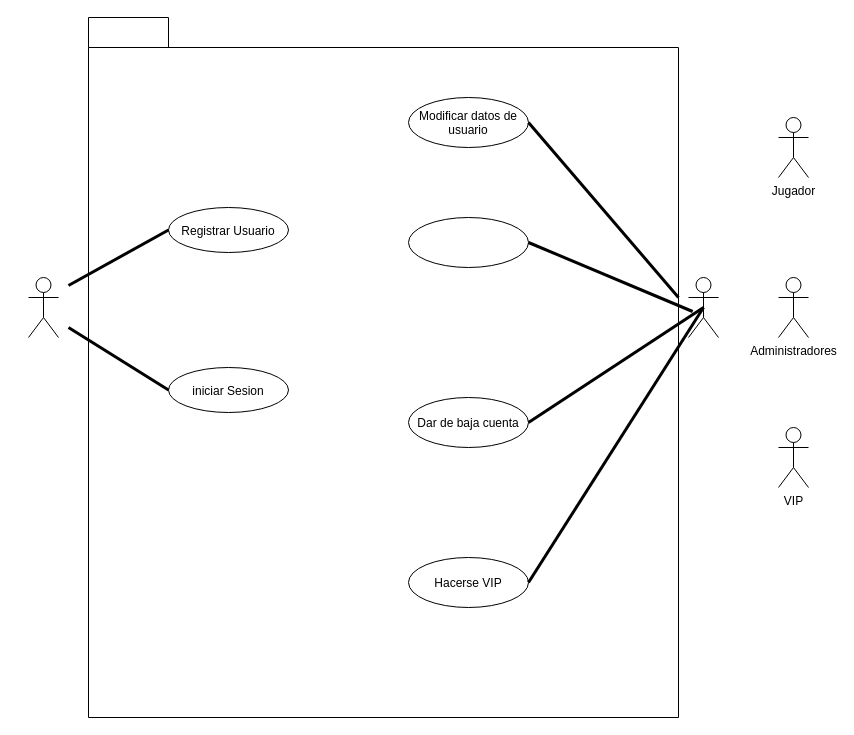
The diagram is 854 pixels wide and 735 high, and some of its shapes have lost their labels. The centre of each missing label's shape, as x and y in pixels:
"Anónimos" belongs at [43,307].
"Cerrar Sesión" belongs at [468,242].
"Registrado" belongs at [703,307].
